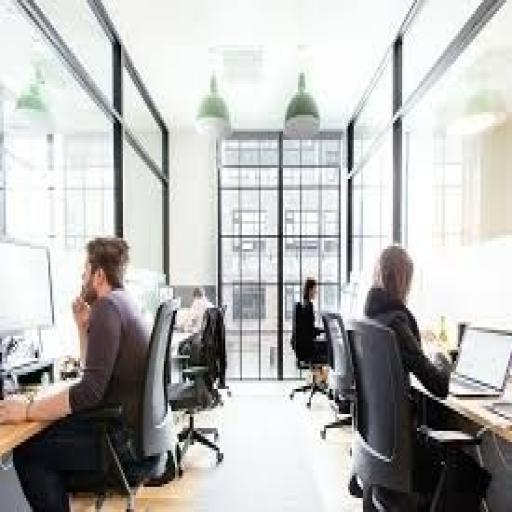sitting: (0, 232, 153, 509), (362, 241, 494, 509), (290, 274, 334, 392)
